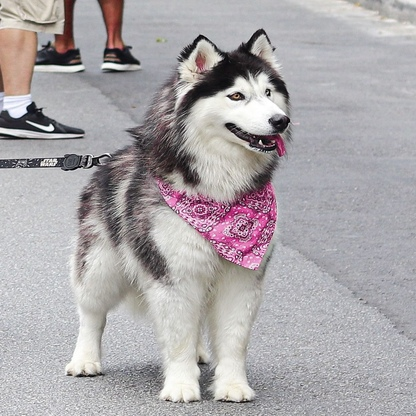husky: (54, 27, 297, 407)
